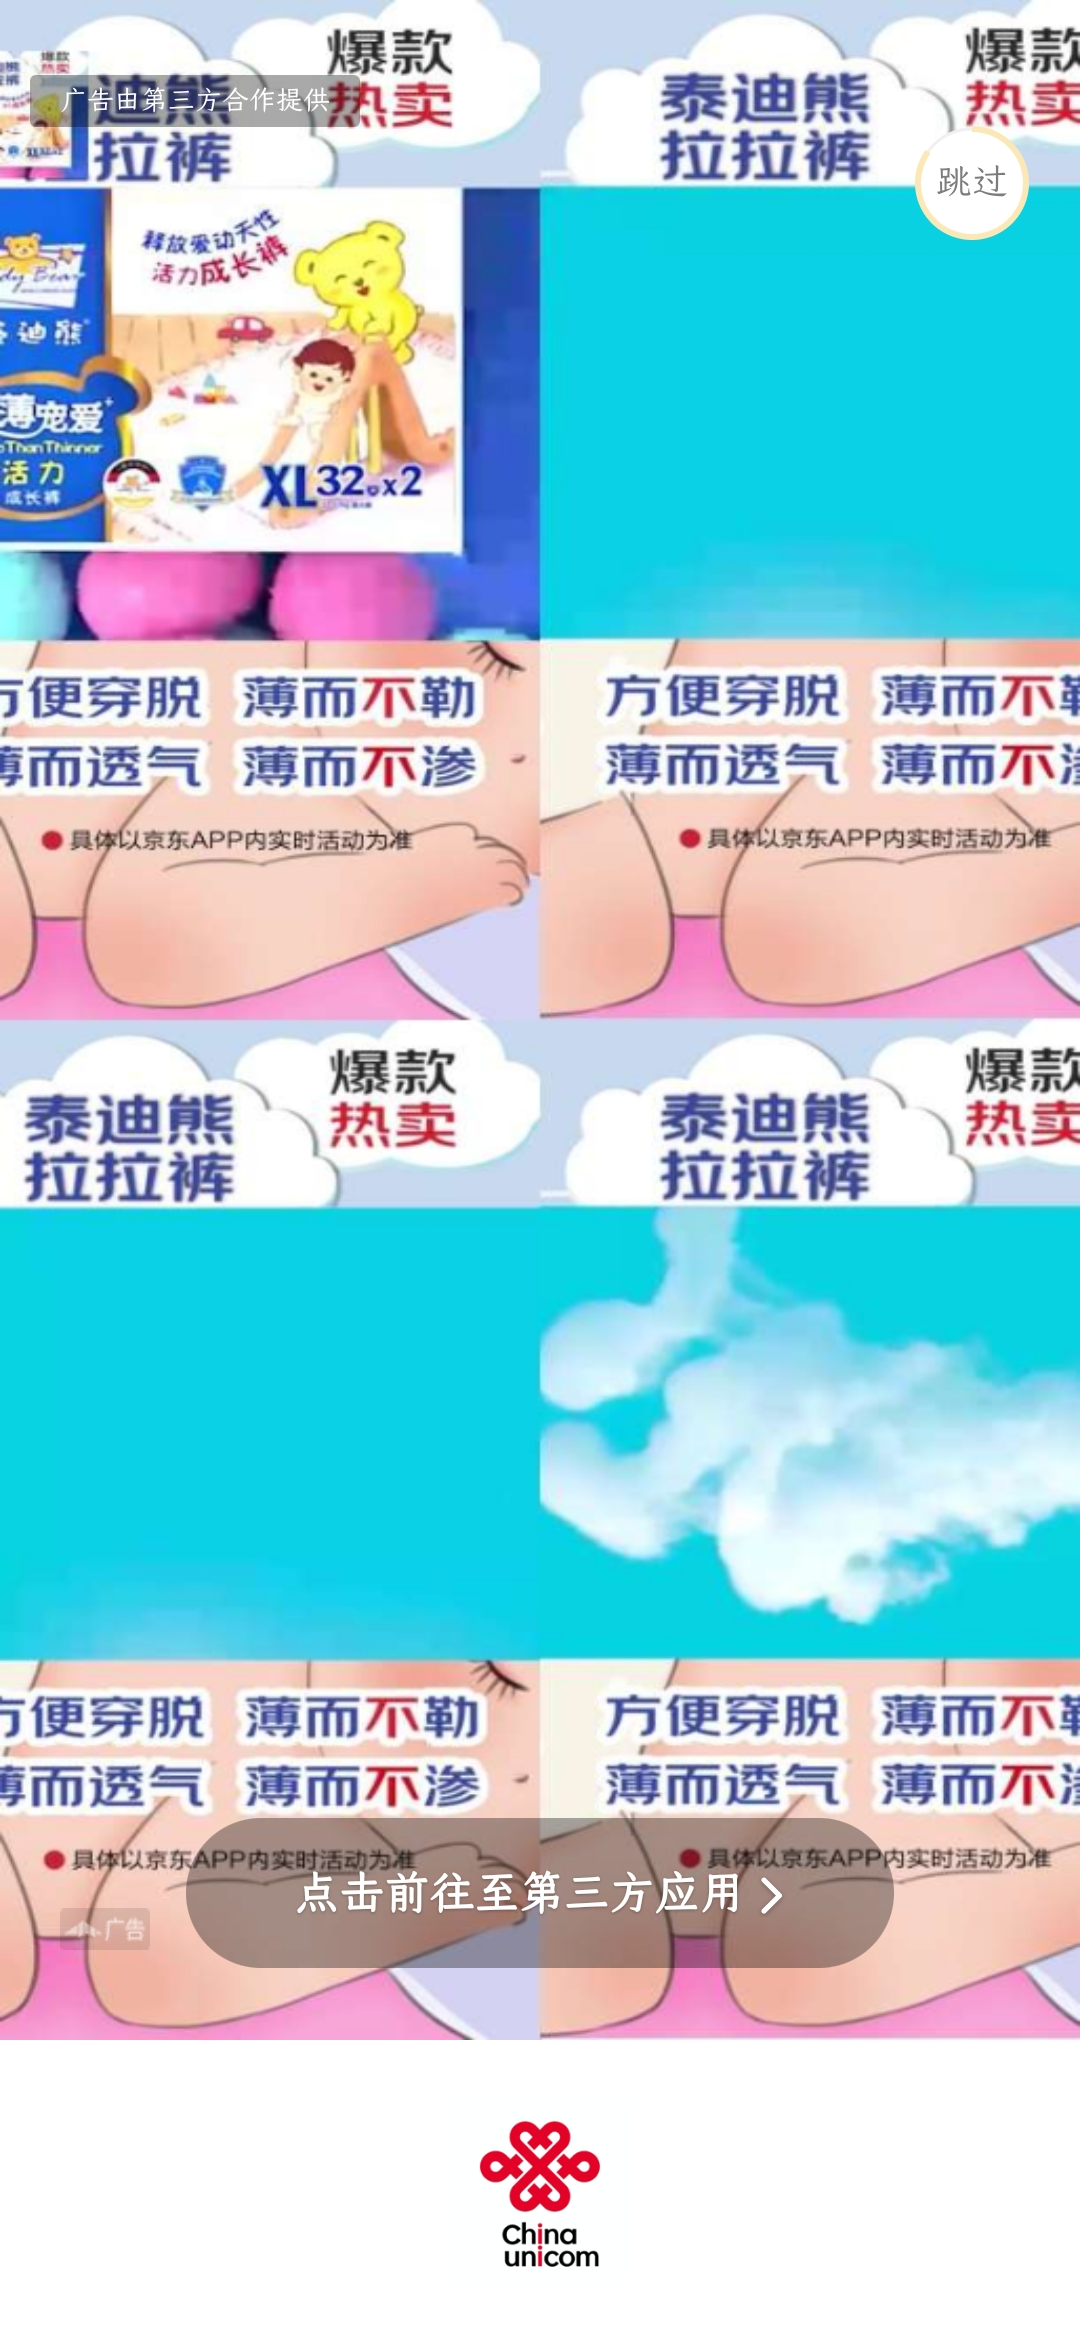skip: (935, 140, 1008, 219)
